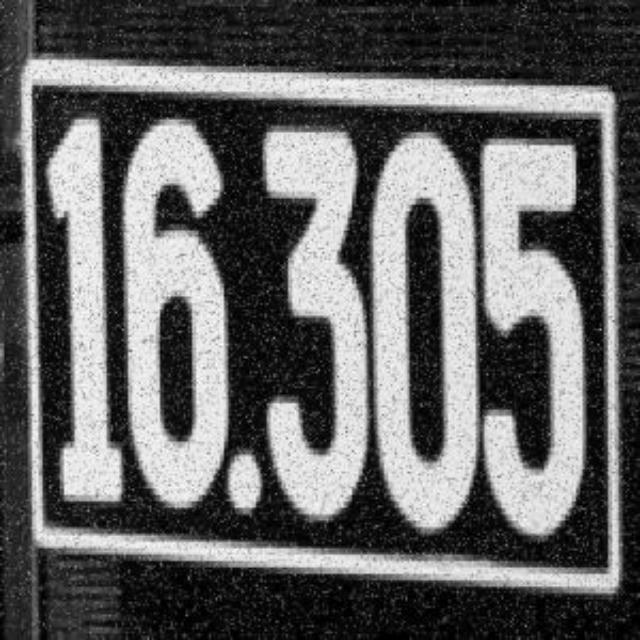License Plate: (19, 57, 624, 601)
